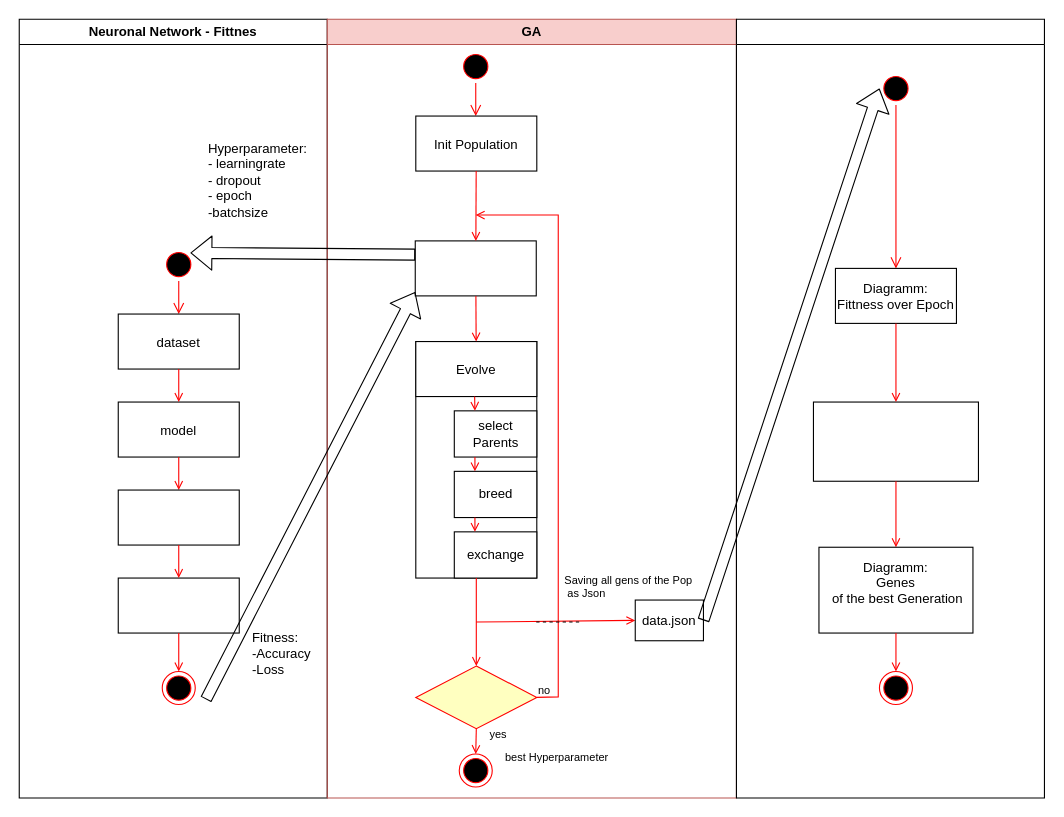
Image size: 1064x817. Some labels were removed from this diagram. The shapes that lost their labels are listed below. From the top down, each one's box as (x1, y1, x2, y2) in pixels, then its label:
(414, 240, 536, 296): Grade
(735, 18, 1044, 798): Visualisation maybe with Dash
(812, 401, 978, 481): Diagramm: Fittness over Loss of the best Generation
(117, 489, 239, 545): train/fit
(117, 577, 239, 633): eval
(415, 665, 537, 729): fittnes of pop >= var
